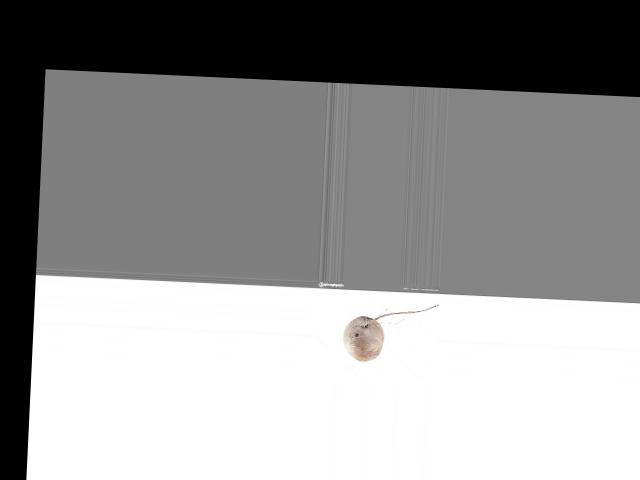beet: (342, 300, 439, 364)
